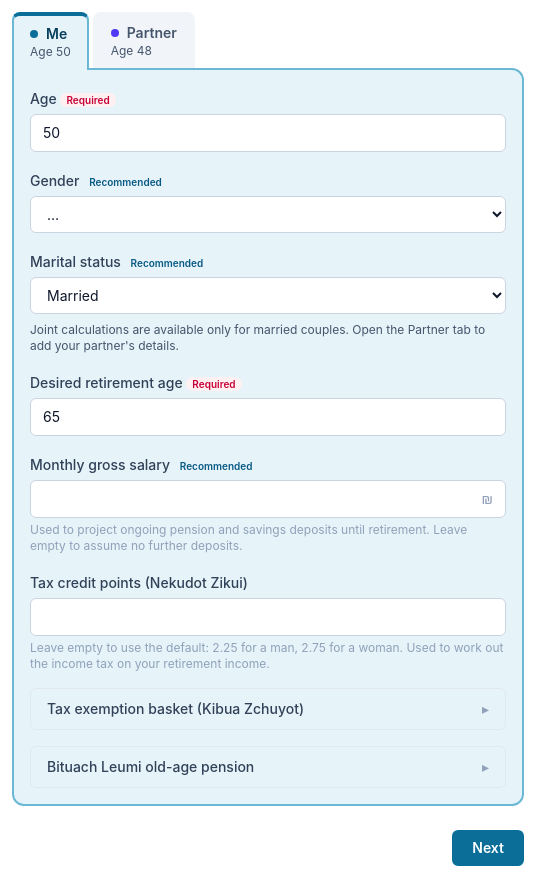
PersonalStep — spouse › requires the spouse's retirement age once their age is entered
Click the tab "Partner Age 48".
click(144, 40)  # box [93,12,195,68]
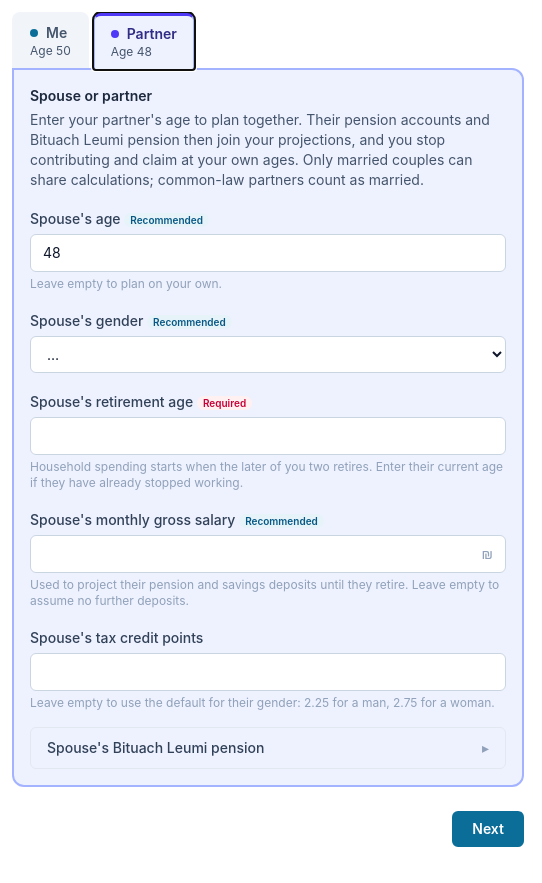
Check: the number field labelled "Spouse's retirement age" is shown, box [31,418,505,454]
Click the button "Next".
click(488, 829)  # box [452,811,524,847]
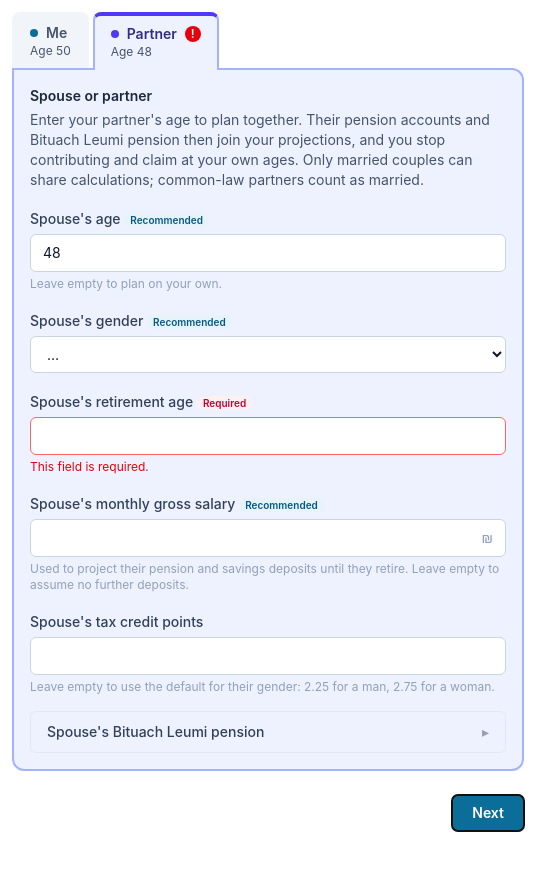
Check: the text "This field is required." is shown, box [30,459,149,474]
